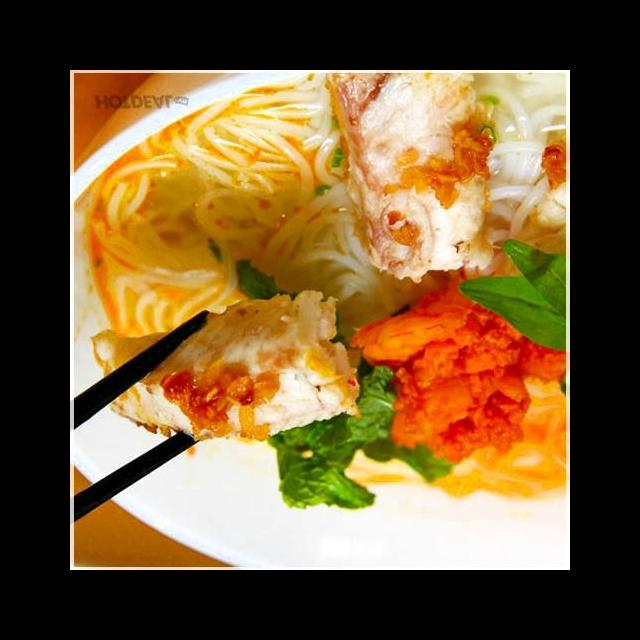bun: (85, 72, 391, 344), (484, 73, 564, 259)
bun ca: (78, 98, 570, 547)
ca: (86, 283, 364, 448), (323, 71, 506, 287)
rau ram: (457, 235, 570, 355)
tom: (349, 271, 570, 471)
